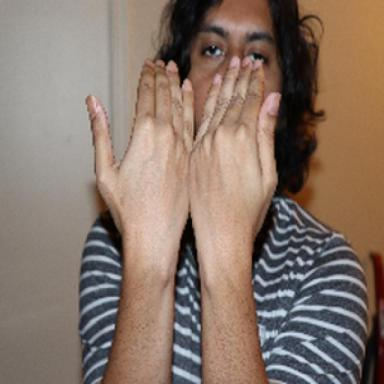normal skin: (87, 61, 193, 384), (191, 57, 281, 384)
